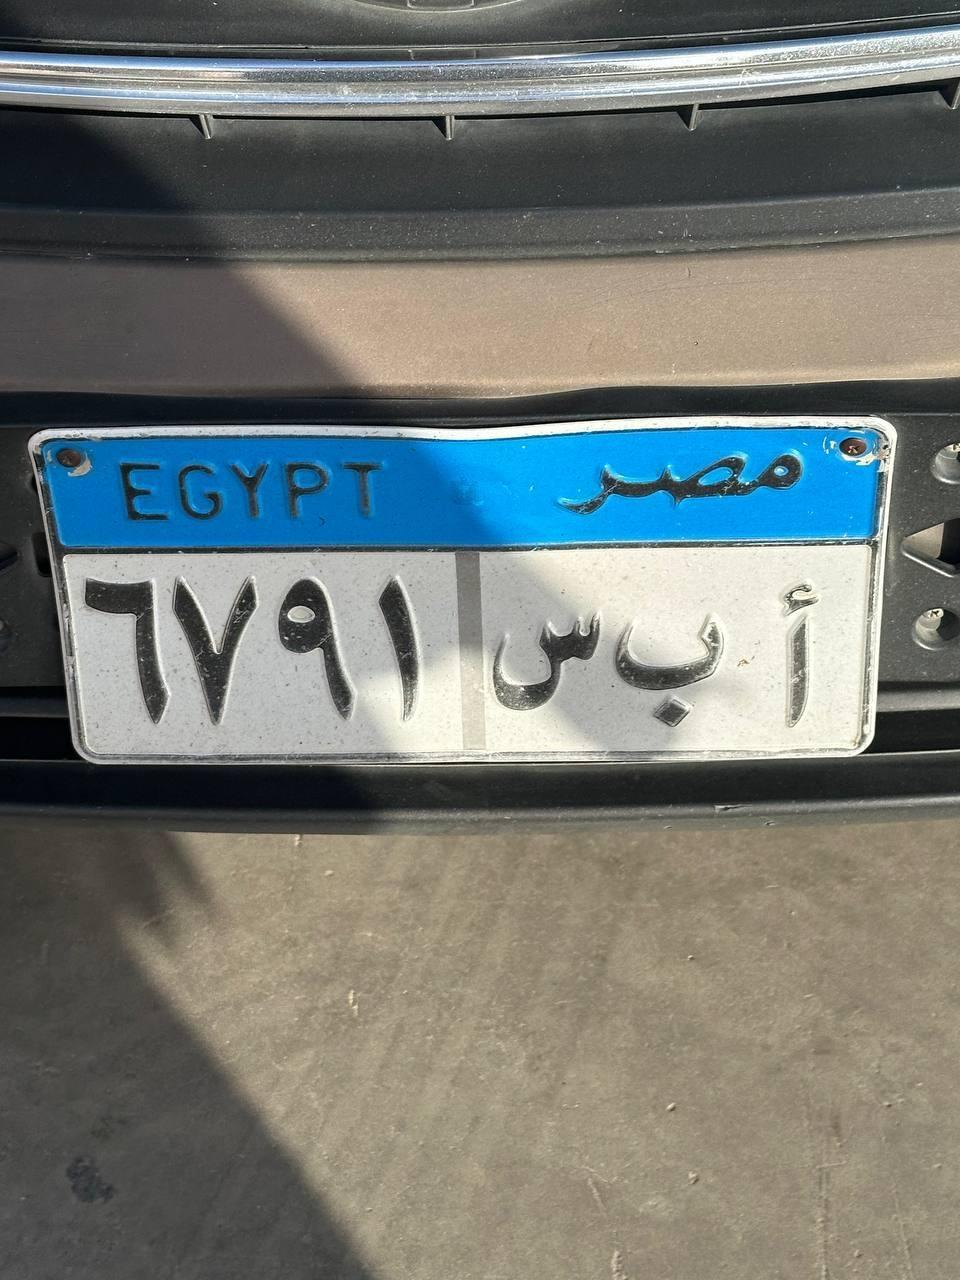1: (352, 565, 434, 720)
6: (67, 568, 178, 731)
7: (169, 564, 266, 724)
9: (255, 576, 368, 724)
License Plate: (26, 412, 900, 774)
Saad: (478, 589, 601, 724)
alef: (766, 582, 838, 716)
baa: (600, 614, 732, 720)
